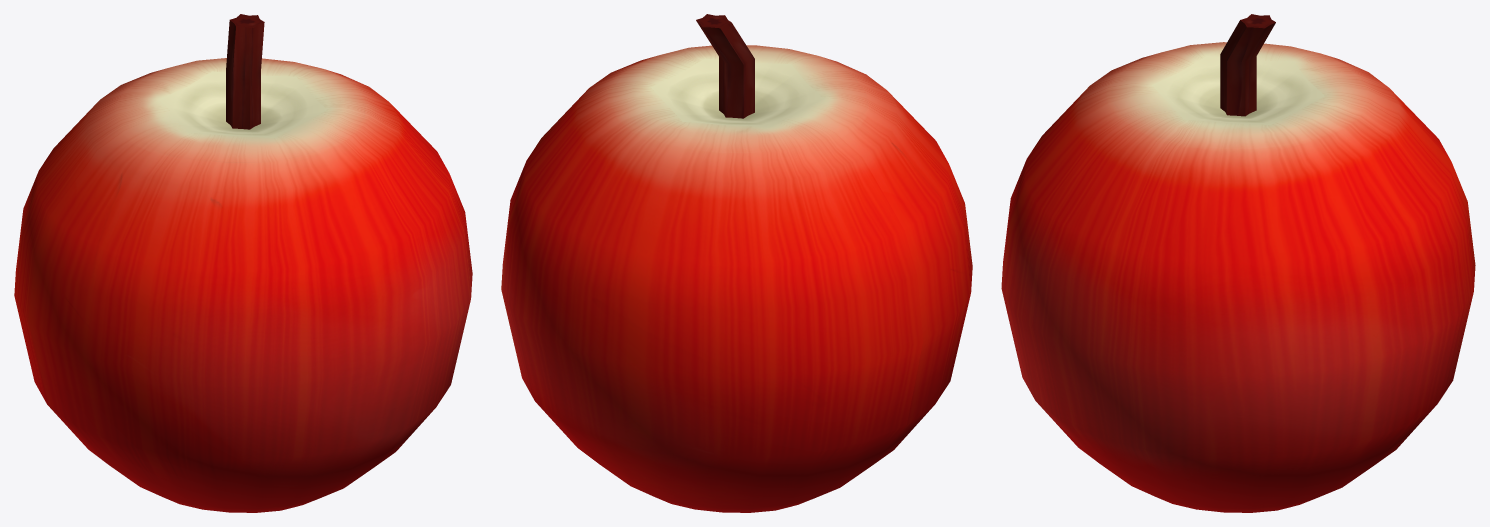
Rendered from Apple [Textured].fbx.
3 renders of one model, left to right at view 1: azimuth 30°, elevation 25°; view 2: azimuth 150°, elevation 25°; view 3: azimuth 270°, elevation 25°, orthographic. The views are drawn at different scales.
Visible parts, largest first — view 1: pSphere1; view 2: pSphere1; view 3: pSphere1.
Part boxes in pixels (x1=…): pSphere1: x1=14, y1=14, x2=472, y2=512; pSphere1: x1=501, y1=14, x2=972, y2=512; pSphere1: x1=1001, y1=14, x2=1475, y2=512.
Size of the model in its own units: 1.31 by 1.42 by 1.31.
Materials: 1 (1 with a texture image).
